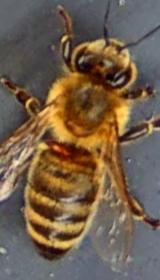varroa_mite: (32, 135, 80, 168)
